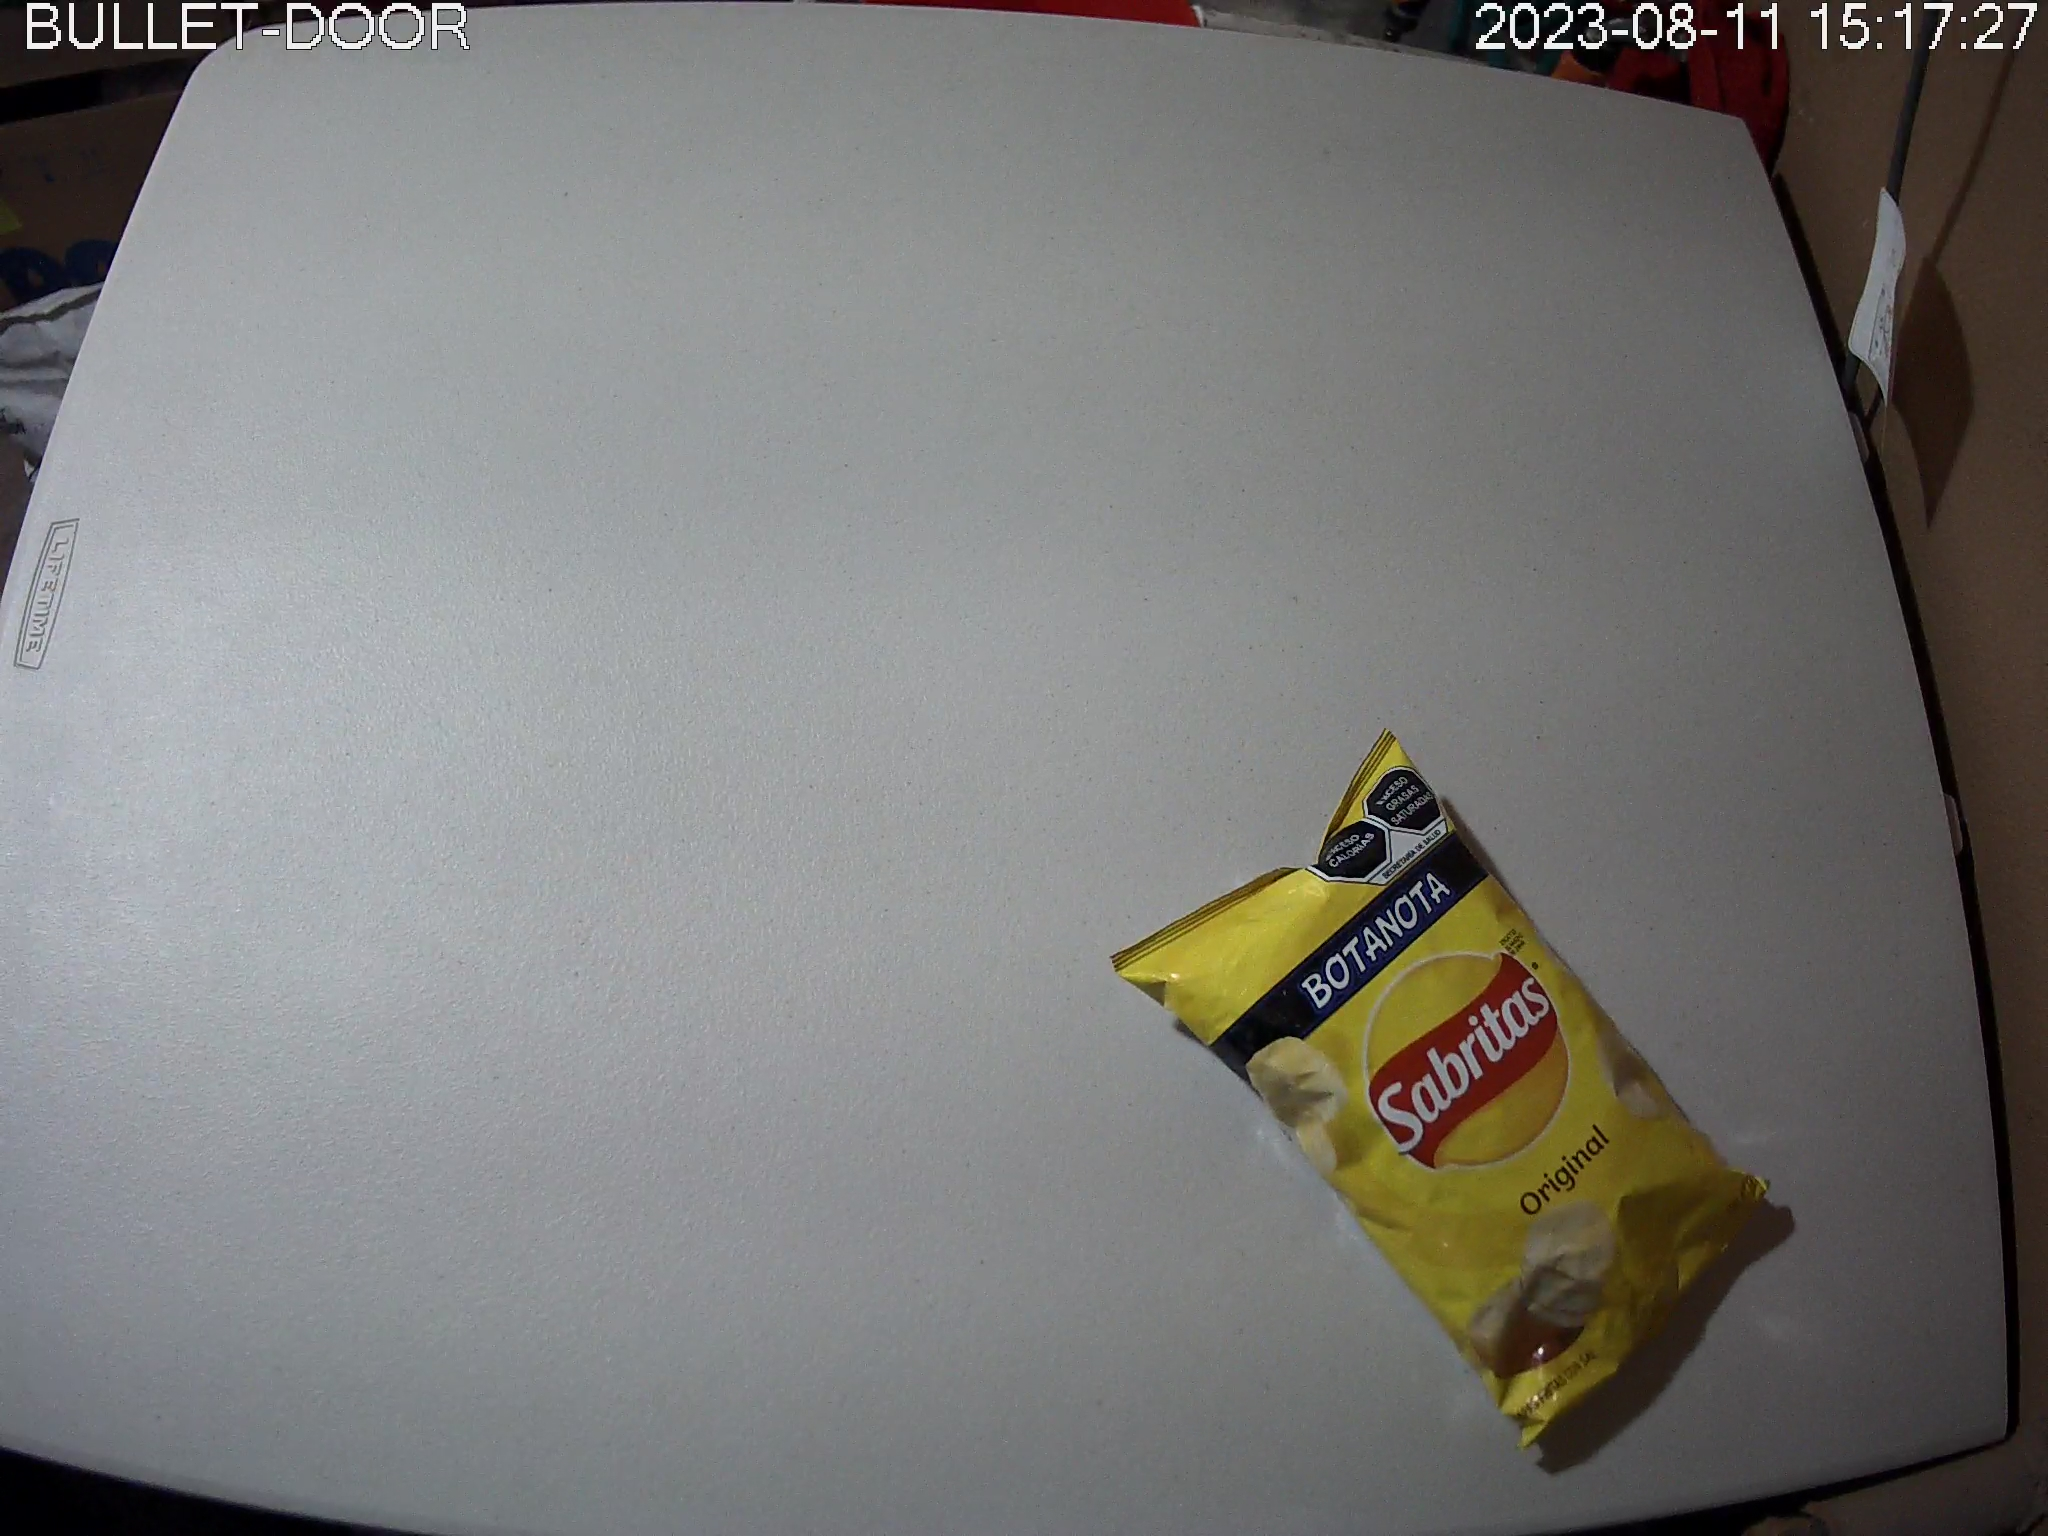Sabritas_64_F: (1109, 724, 1775, 1455)
